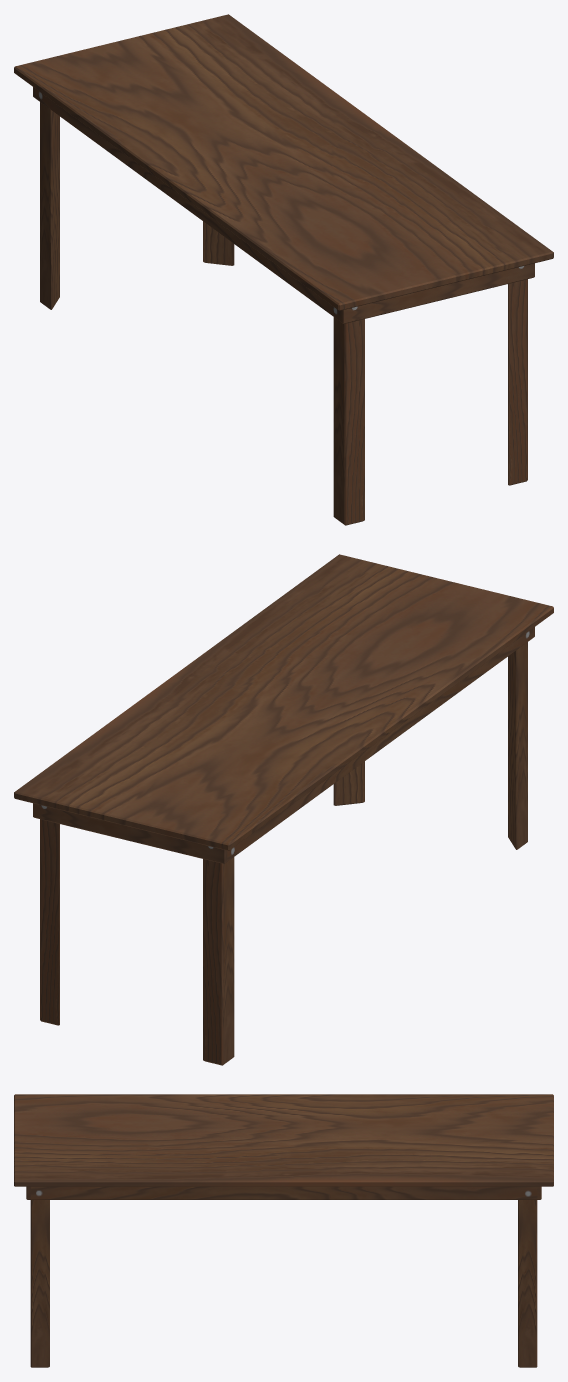
The model's file is Table6.obj.
The picture shows the model from 3 angles, top to bottom: view 1: azimuth 30°, elevation 25°; view 2: azimuth 150°, elevation 25°; view 3: azimuth 270°, elevation 25°; orthographic projection. The views are drawn at different scales.
Parts seen in each view (by area): view 1: Cube.036; view 2: Cube.036; view 3: Cube.036.
Boxes of the visible parts, bbox=[...] form: Cube.036: bbox=[14, 14, 553, 525]; Cube.036: bbox=[14, 554, 553, 1065]; Cube.036: bbox=[14, 1094, 553, 1367].
Size of the model in its own units: 0.7722 by 0.7973 by 2.02.
